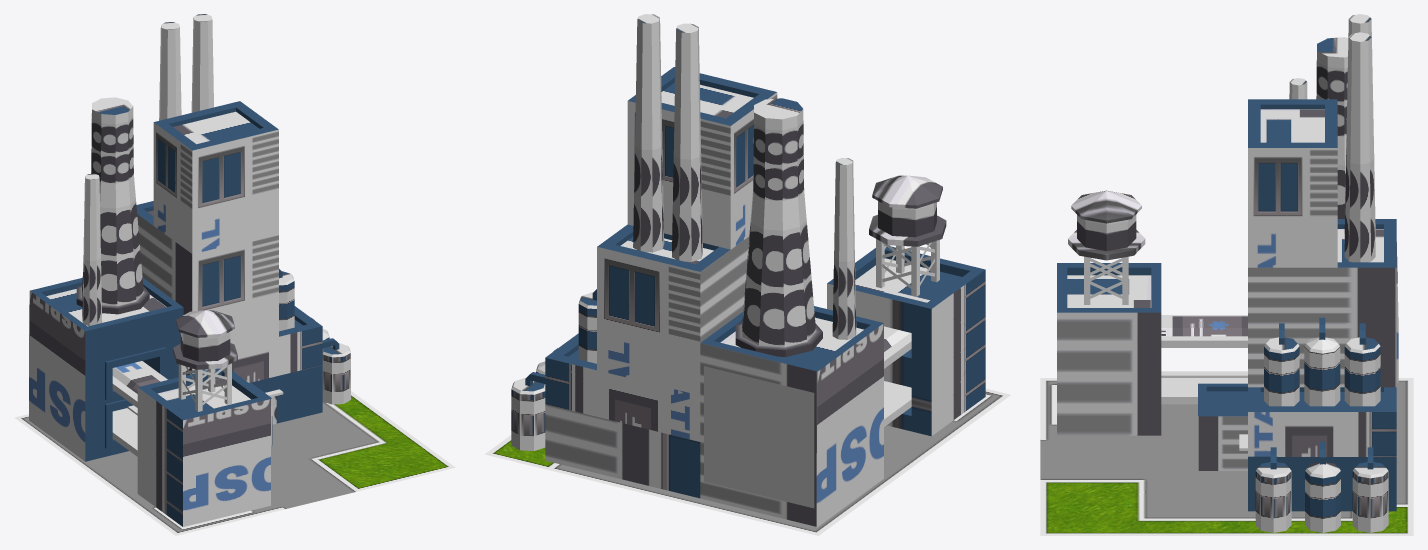
Rendered from Smelter_Plant_lvl_5.fbx.
3 renders of one model, left to right at view 1: azimuth 30°, elevation 25°; view 2: azimuth 150°, elevation 25°; view 3: azimuth 270°, elevation 25°, orthographic. The views are drawn at different scales.
Parts seen in each view (by area): view 1: Smelter_Plant_Lvl_5, Smelter_Plant_BG, Smelter_Plant_Lvl_5.001; view 2: Smelter_Plant_Lvl_5, Graffiti_001, Smelter_Plant_BG, Smelter_Plant_Lvl_5.001; view 3: Smelter_Plant_Lvl_5, Smelter_Plant_BG, Smelter_Plant_Lvl_5.001.
Boxes of the visible parts, x1=… form: Smelter_Plant_Lvl_5: x1=29, y1=14, x2=350, y2=526; Smelter_Plant_BG: x1=14, y1=391, x2=455, y2=535; Smelter_Plant_Lvl_5.001: x1=182, y1=366, x2=226, y2=404; Smelter_Plant_Lvl_5: x1=511, y1=14, x2=985, y2=527; Graffiti_001: x1=704, y1=366, x2=814, y2=508; Smelter_Plant_BG: x1=485, y1=388, x2=1010, y2=535; Smelter_Plant_Lvl_5.001: x1=882, y1=242, x2=934, y2=288; Smelter_Plant_Lvl_5: x1=1057, y1=14, x2=1398, y2=532; Smelter_Plant_BG: x1=1040, y1=378, x2=1413, y2=535; Smelter_Plant_Lvl_5.001: x1=1090, y1=257, x2=1122, y2=298.
Size of the model in its own units: 2000 by 2566 by 2000.
